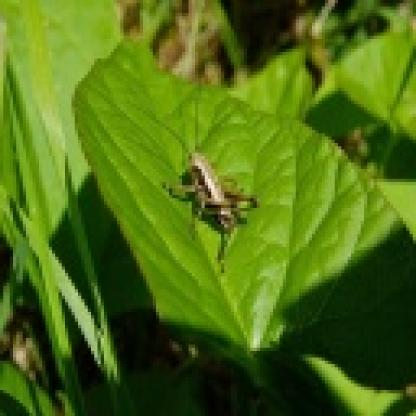grasshopper: (168, 129, 260, 248)
